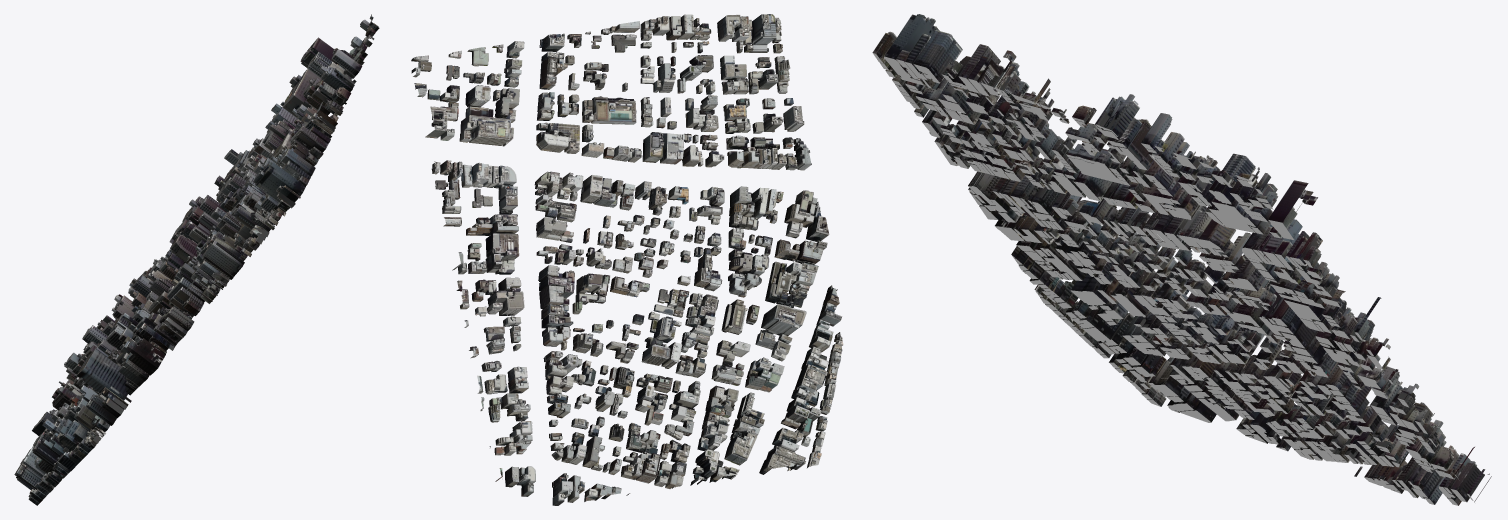
The model's file is 9883_bldg_Building.glb.
3 views of the same model, side by side, from view 1: azimuth 30°, elevation 25°; view 2: azimuth 150°, elevation 25°; view 3: azimuth 270°, elevation 25° (orthographic). The views are drawn at different scales.
Bounding box in the file's own units: 559 × 520 × 602.
Materials: 12 (11 with a texture image).
